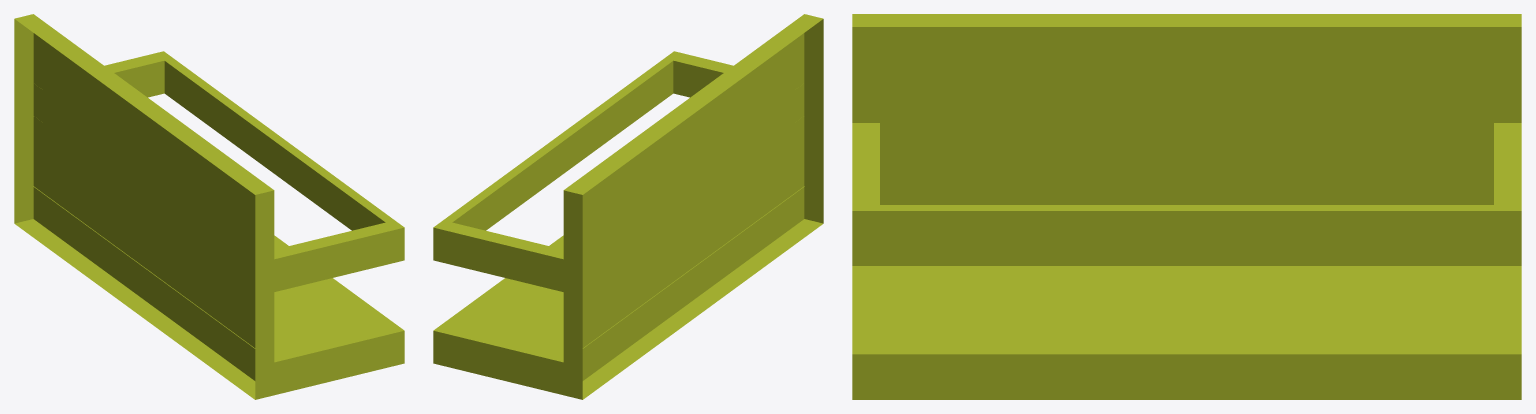
Rendered from SM_Shelfhanging.fbx.
3 views of the same model, side by side, from view 1: azimuth 30°, elevation 25°; view 2: azimuth 150°, elevation 25°; view 3: azimuth 270°, elevation 25° (orthographic). The views are drawn at different scales.
Parts seen in each view (by area): view 1: hanging_shelf_001; view 2: hanging_shelf_001; view 3: hanging_shelf_001.
Boxes of the visible parts, x1,y1,x2,y2 form: hanging_shelf_001: (14, 14, 404, 399); hanging_shelf_001: (433, 14, 823, 399); hanging_shelf_001: (852, 14, 1521, 399).
Size of the model in its own units: 28.67 by 37.55 by 80.01.
